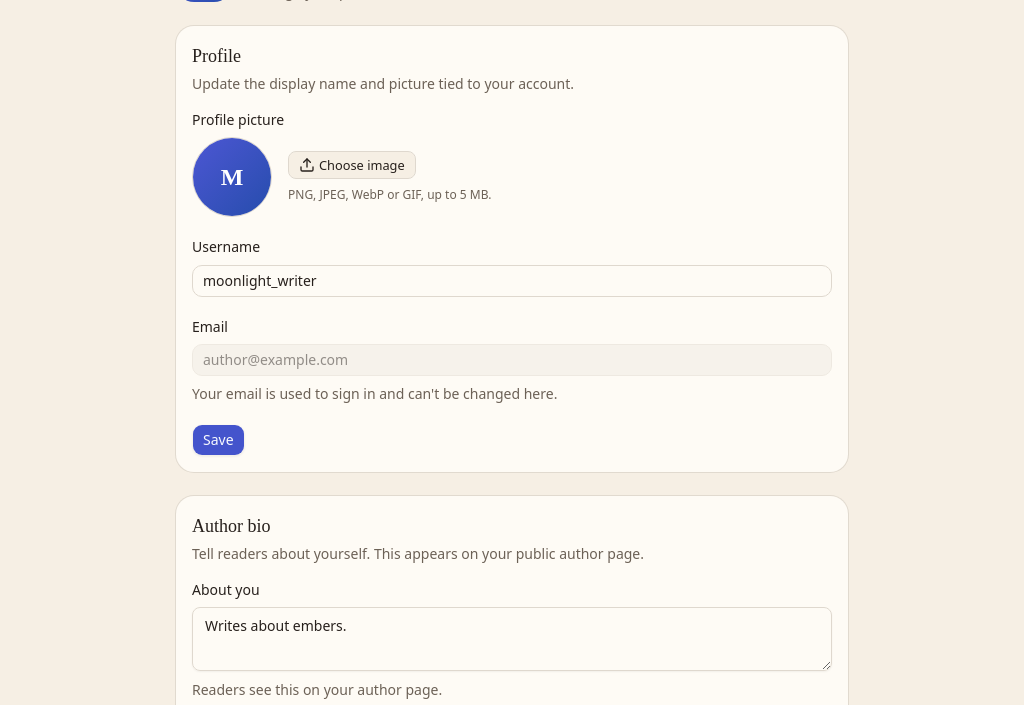
Test: AccountPage › loads an author's bio and saves it via PUT /authors/me { bio }
Replace the text in the text box labelled "About you" with "Now writing about frost." at (512, 639), box [192, 607, 832, 671]
(page scrolled)
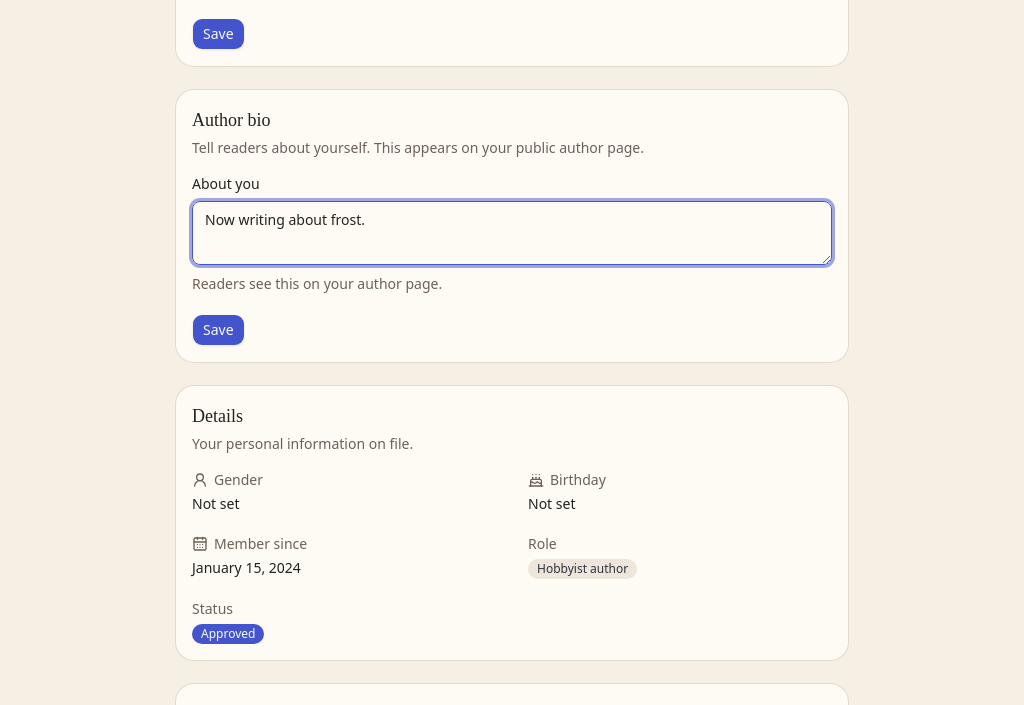
Click the button "Save" below "Readers see this on your author page." at (218, 330), box [192, 314, 245, 346]
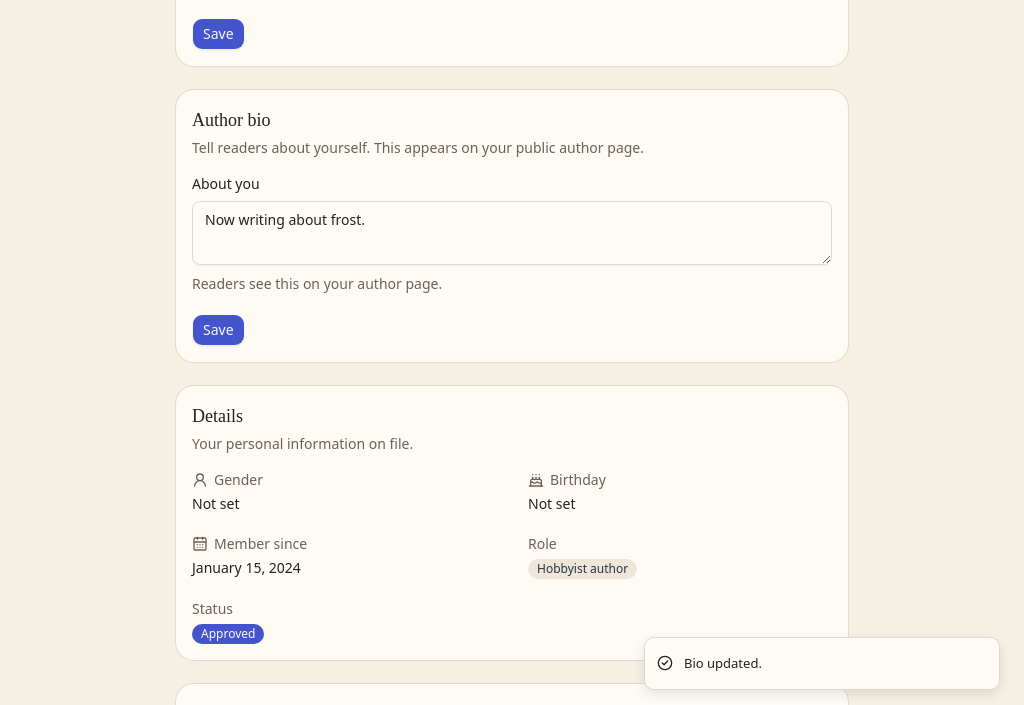
Check: the text "Bio updated." is shown, box [684, 654, 762, 673]
